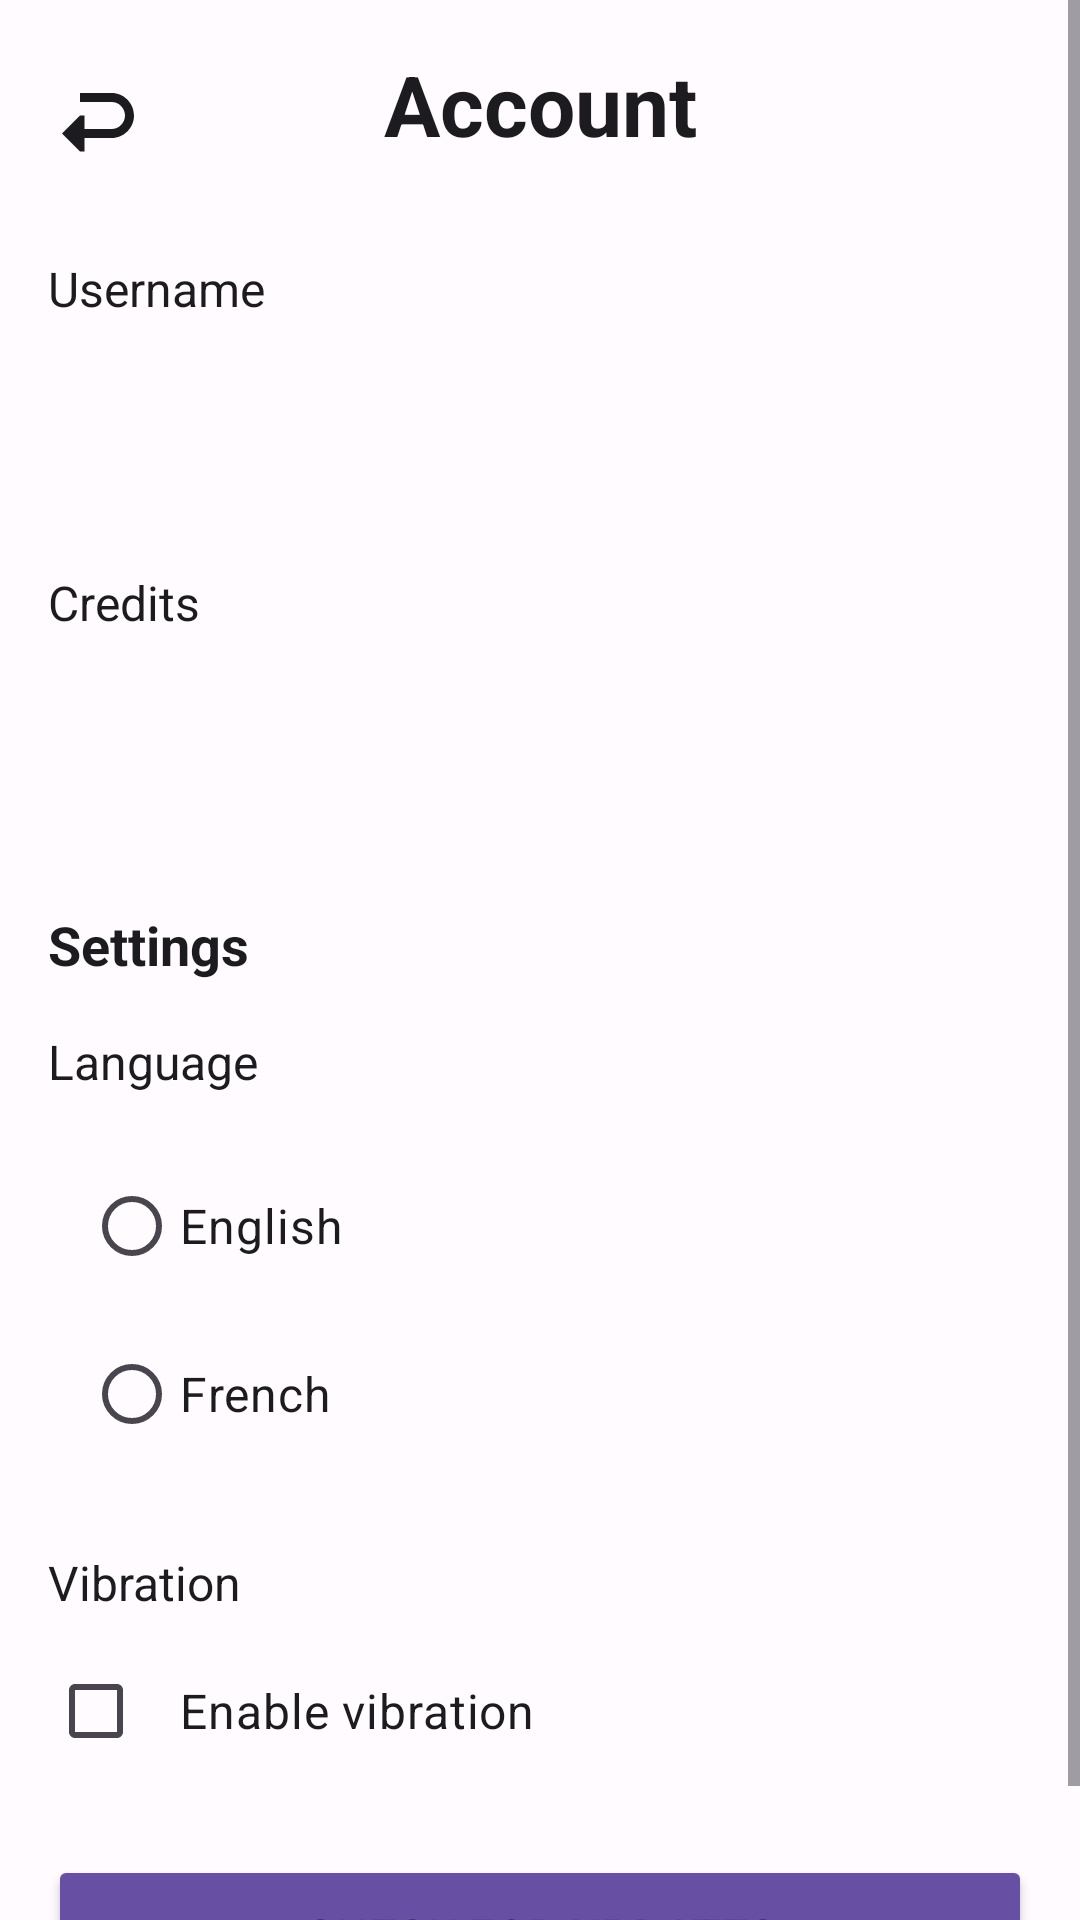

Locate icon controls on the screen. Image size 1080px x 1920px, boxes as (x1, y1, x2, y2).
Back: (62, 93, 134, 152)
